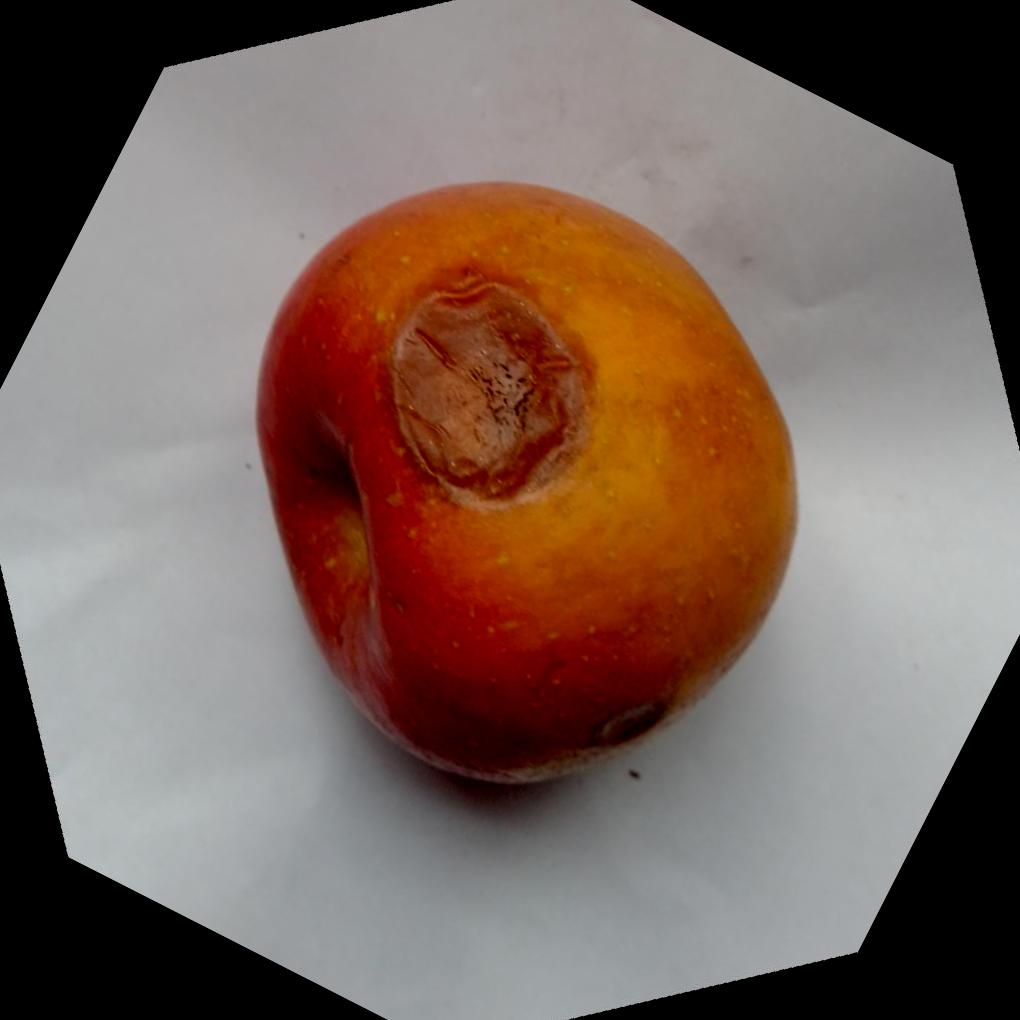FreshOrange: (254, 180, 802, 789)
